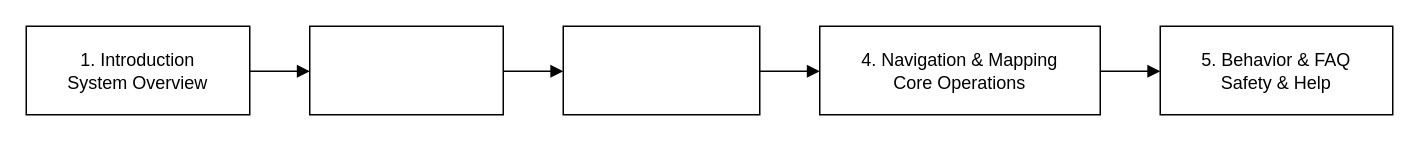
Some shapes in this 1419 by 141 pixel diagram are drawn without their labels. Here are the shapes that lost their labels. From the top down, the centre of each, then its label:
At (x=405, y=70): "2. Quick Start First Mission".
At (x=661, y=70): "3. Accounts Login & Roles".
